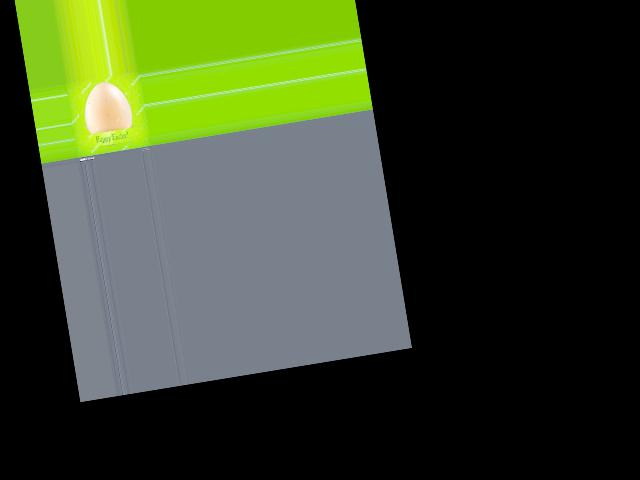egg: (80, 78, 134, 134)
